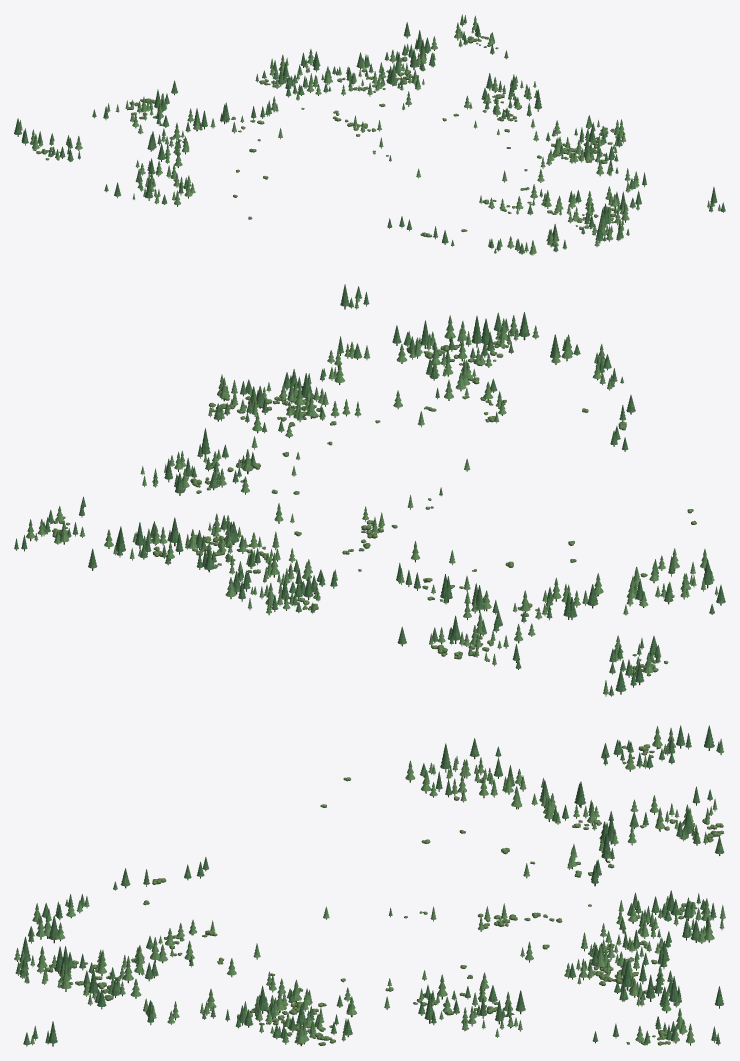
File: Foliage_P3.fbx
3 views of the same model, one above another, from view 1: azimuth 30°, elevation 25°; view 2: azimuth 150°, elevation 25°; view 3: azimuth 270°, elevation 25° (orthographic). The views are drawn at different scales.
Bounding box in the file's own units: 61565 × 3568 × 61258.
